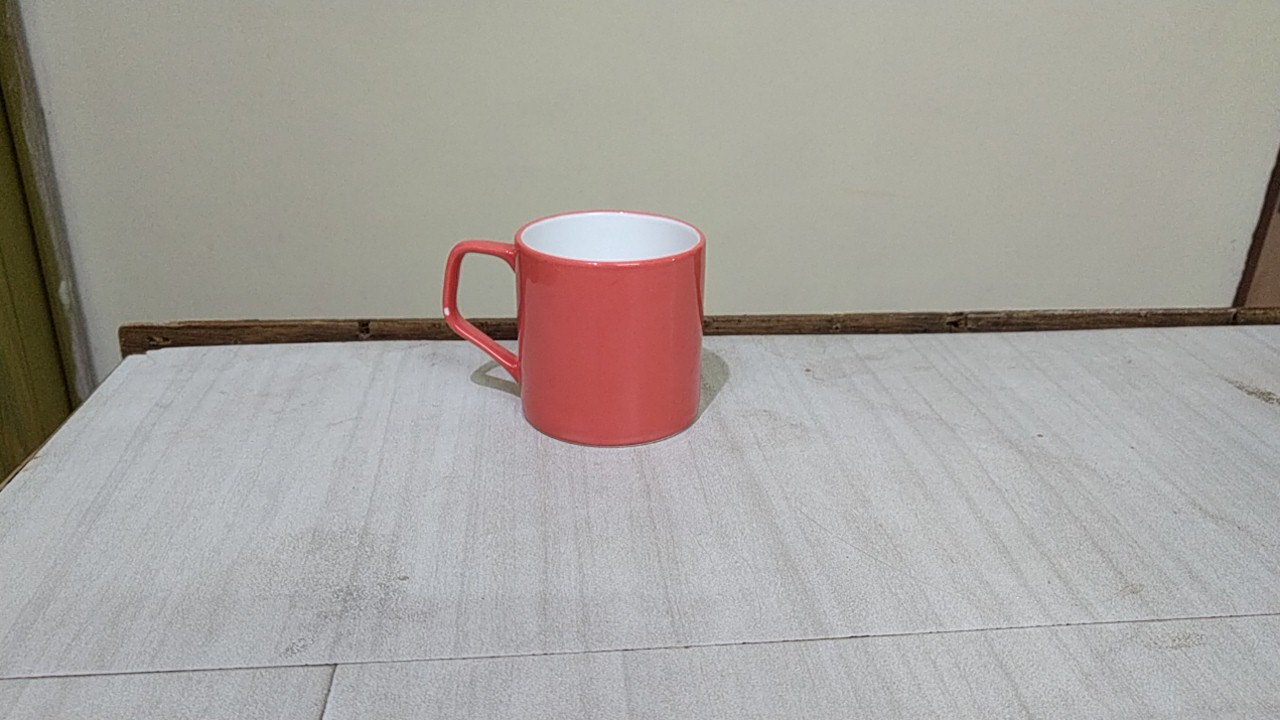cup: (423, 199, 732, 476)
